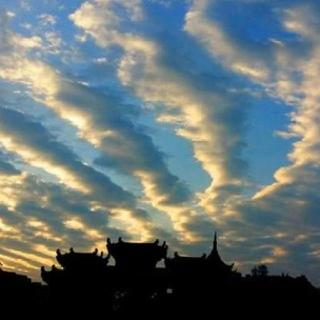Altocumulus: (13, 0, 320, 268)
